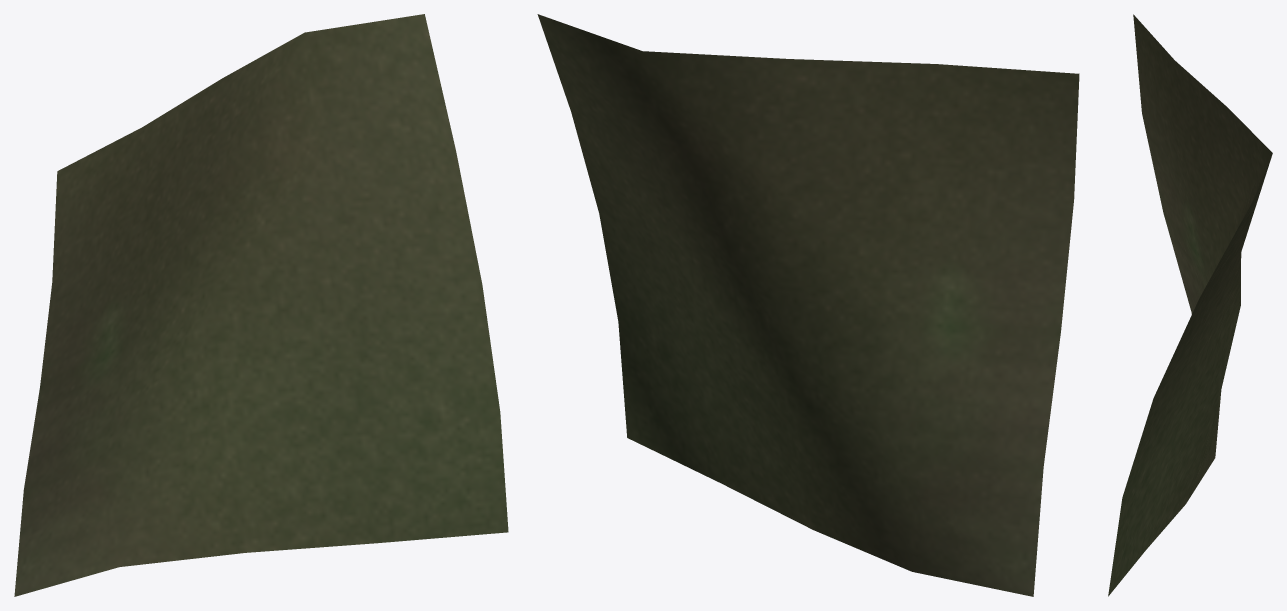
The model's file is terrain_far_04_03.obj.
3 views of the same model, side by side, from view 1: azimuth 30°, elevation 25°; view 2: azimuth 150°, elevation 25°; view 3: azimuth 270°, elevation 25° (orthographic). The views are drawn at different scales.
Visible parts, largest first — view 1: terrain_far_04_03; view 2: terrain_far_04_03; view 3: terrain_far_04_03.
Part boxes in pixels (x1=…): terrain_far_04_03: x1=14, y1=14, x2=508, y2=596; terrain_far_04_03: x1=537, y1=14, x2=1079, y2=596; terrain_far_04_03: x1=1108, y1=14, x2=1272, y2=596.
Bounding box in the file's own units: 288 × 288 × 108.
1 material, 1 textured.
